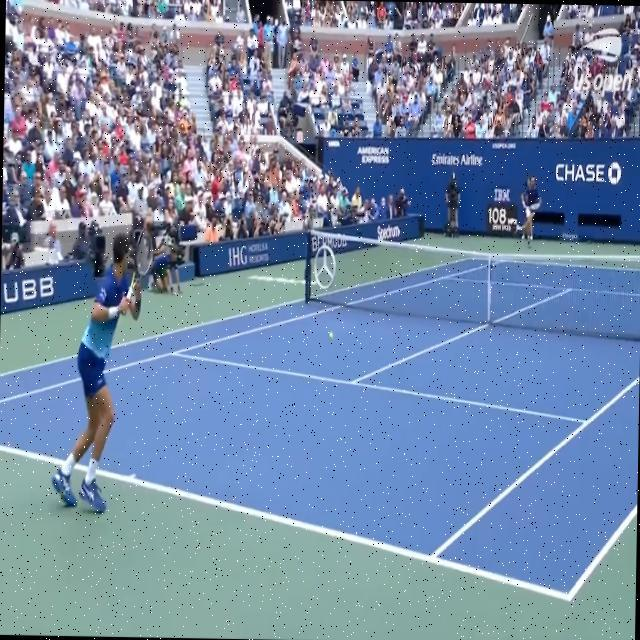Emirates: (432, 152, 460, 166)
